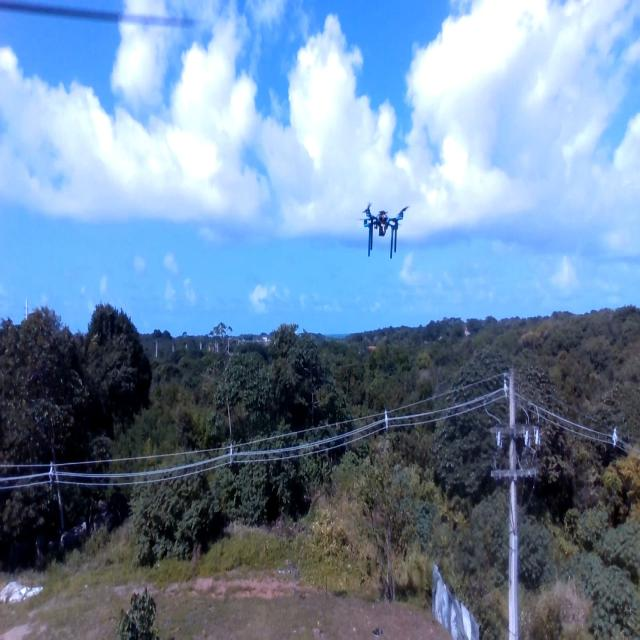-uav-: (350, 191, 414, 265)
